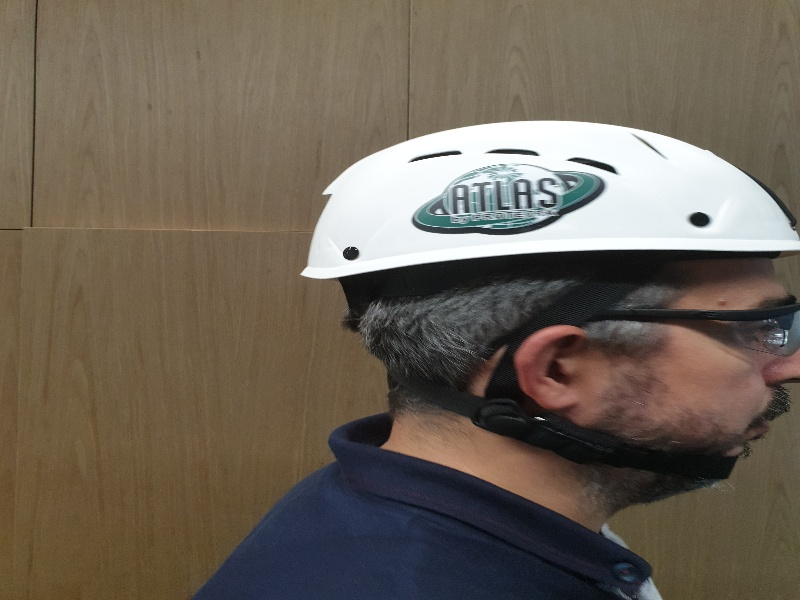Baret: (305, 119, 800, 258)
Gozluk: (596, 304, 800, 357)
